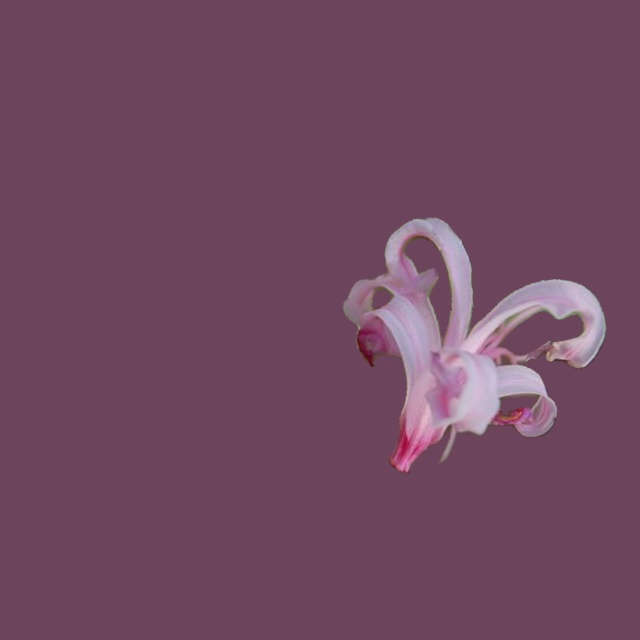cape flower: (343, 217, 606, 472)
